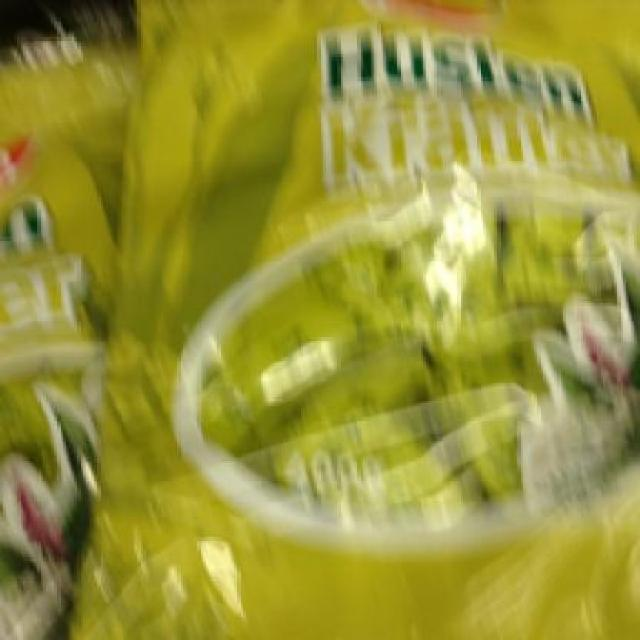Candy: (137, 9, 637, 628)
